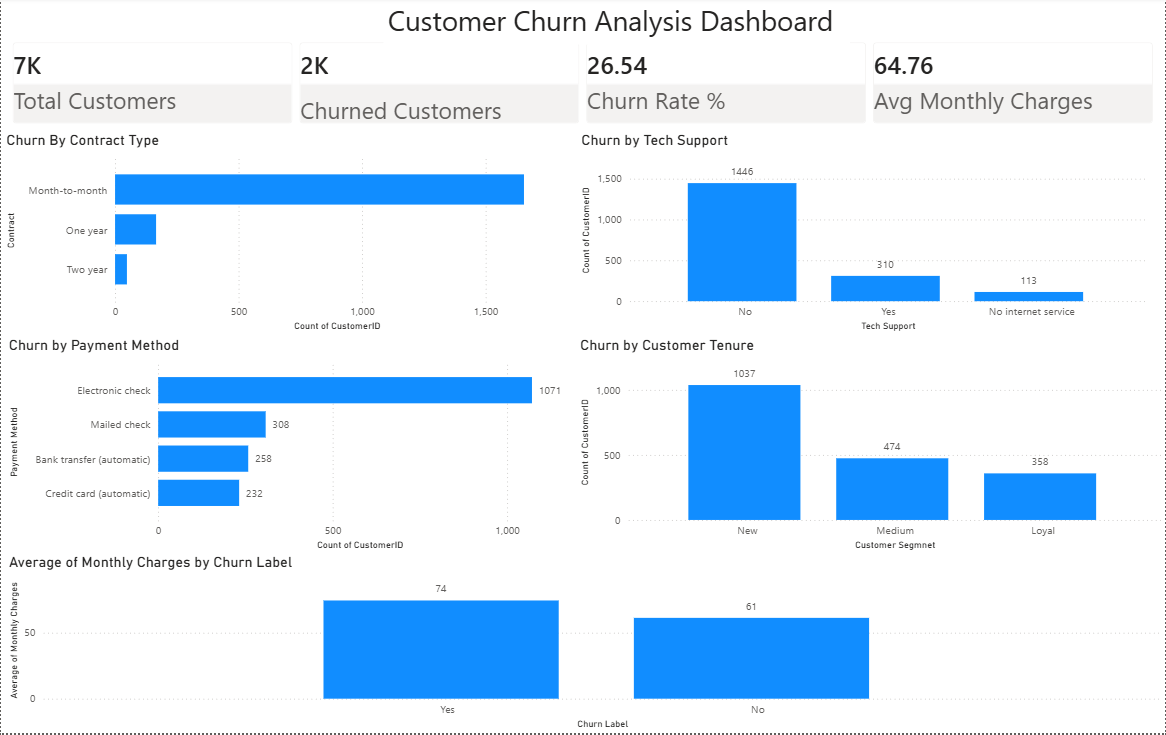

The dashboard page shown, as its layout file describes it:
{"tool":"powerbi","page":{"name":"Page 1","canvas":[1348,852],"ordinal":0},"visuals":[{"type":"cardVisual","fields":{"Data":["sales.Total Customers","sales.Churned Customers","sales.Churn Rate","sales.Avg Monthly charges"]},"box":[1.4,40.5,1347.2,118.7],"z":0},{"type":"clusteredBarChart","title":"Churn By Contract Type","fields":{"Y":["CountNonNull(sales.CustomerID)"],"Category":["sales.Contract"]},"box":[1.4,154.8,665.6,237.3],"z":1000},{"type":"clusteredColumnChart","title":"Churn by Tech Support","fields":{"Category":["sales.Tech Support"],"Y":["CountNonNull(sales.CustomerID)"]},"box":[667.1,154.8,664.2,237.3],"z":2000},{"type":"clusteredBarChart","title":"Churn by Payment Method","fields":{"Category":["sales.Payment Method"],"Y":["CountNonNull(sales.CustomerID)"]},"box":[4.3,392.1,665.6,253.2],"z":3000},{"type":"clusteredColumnChart","title":"Churn by Customer Tenure","fields":{"Category":["sales.Customer Segmnet"],"Y":["CountNonNull(sales.CustomerID)"]},"box":[665.6,392.1,683,253.2],"z":4000},{"type":"clusteredColumnChart","fields":{"Category":["sales.Churn Label"],"Y":["Avg(sales.Monthly Charges)"]},"box":[4.3,643.9,1344.3,208.4],"z":5000},{"type":"textbox","box":[442.8,0,539.7,55],"z":6000}]}

Visuals, with their boxes in screenshot pixels (x1, y1, x2, y2), scaled from the page's 1348x852 canvas onto the 1166x735 screenshot:
cardVisual - sales.Total Customers x sales.Churned Customers: 1/35/1165/137
"Churn By Contract Type" clusteredBarChart: 1/134/577/338
"Churn by Tech Support" clusteredColumnChart: 577/134/1152/338
"Churn by Payment Method" clusteredBarChart: 4/338/579/557
"Churn by Customer Tenure" clusteredColumnChart: 576/338/1165/557
clusteredColumnChart - sales.Churn Label x Avg(sales.Monthly Charges): 4/555/1165/734
textbox: 383/0/850/47
